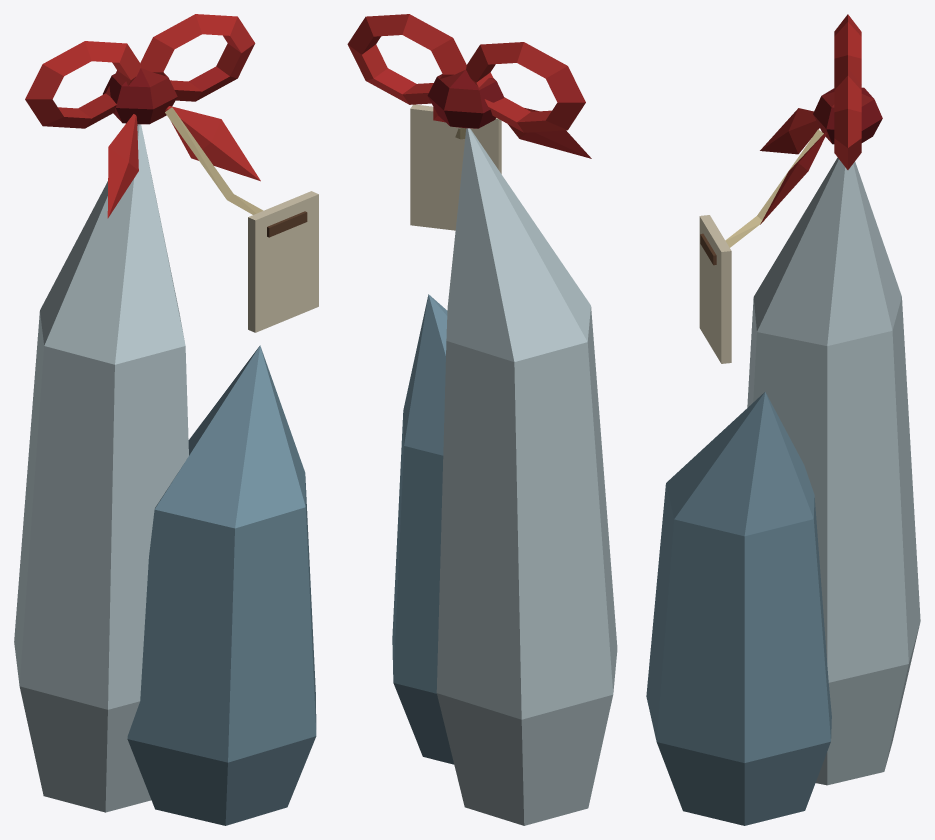
The model's file is quest_ice_shard.glb.
3 renders of one model, left to right at view 1: azimuth 30°, elevation 25°; view 2: azimuth 150°, elevation 25°; view 3: azimuth 270°, elevation 25°, orthographic. The views are drawn at different scales.
Parts seen in each view (by area): view 1: quest_ice_shard; view 2: quest_ice_shard; view 3: quest_ice_shard.
Part boxes in pixels (x1,y1,x2,y2): quest_ice_shard: (14, 14, 318, 825); quest_ice_shard: (347, 14, 617, 825); quest_ice_shard: (646, 14, 920, 825).
Size of the model in its own units: 0.1659 by 0.4573 by 0.1554.
